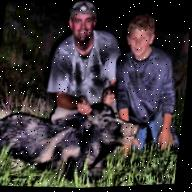boar: (0, 86, 147, 192)
